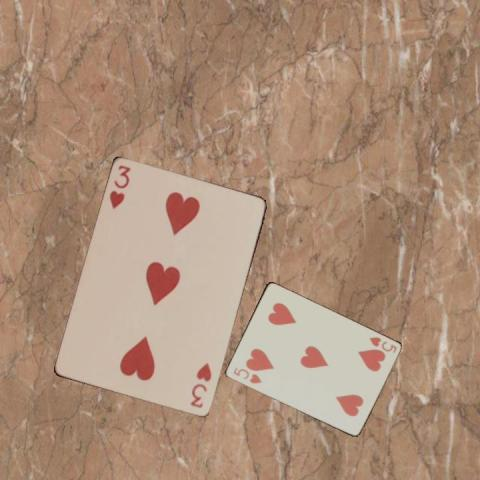3h: (188, 360, 214, 410), (107, 162, 132, 211)
5h: (230, 364, 263, 385), (366, 334, 398, 355)
